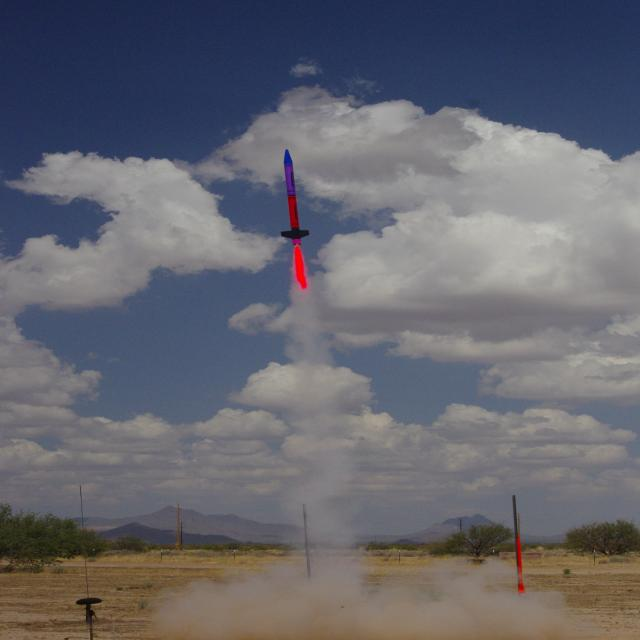Rocket: (280, 149, 310, 245), (516, 534, 526, 596)
